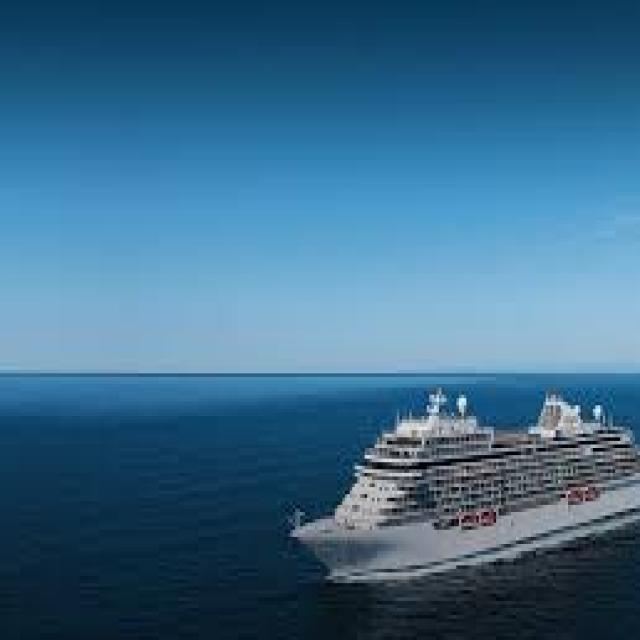passenger ship: (288, 377, 640, 583)
